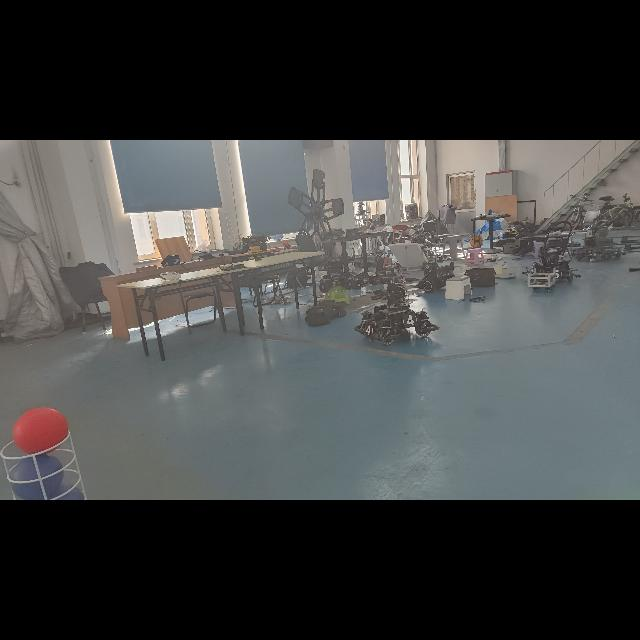B: (10, 453, 64, 499)
R: (12, 408, 68, 454)
S: (0, 430, 86, 500)
